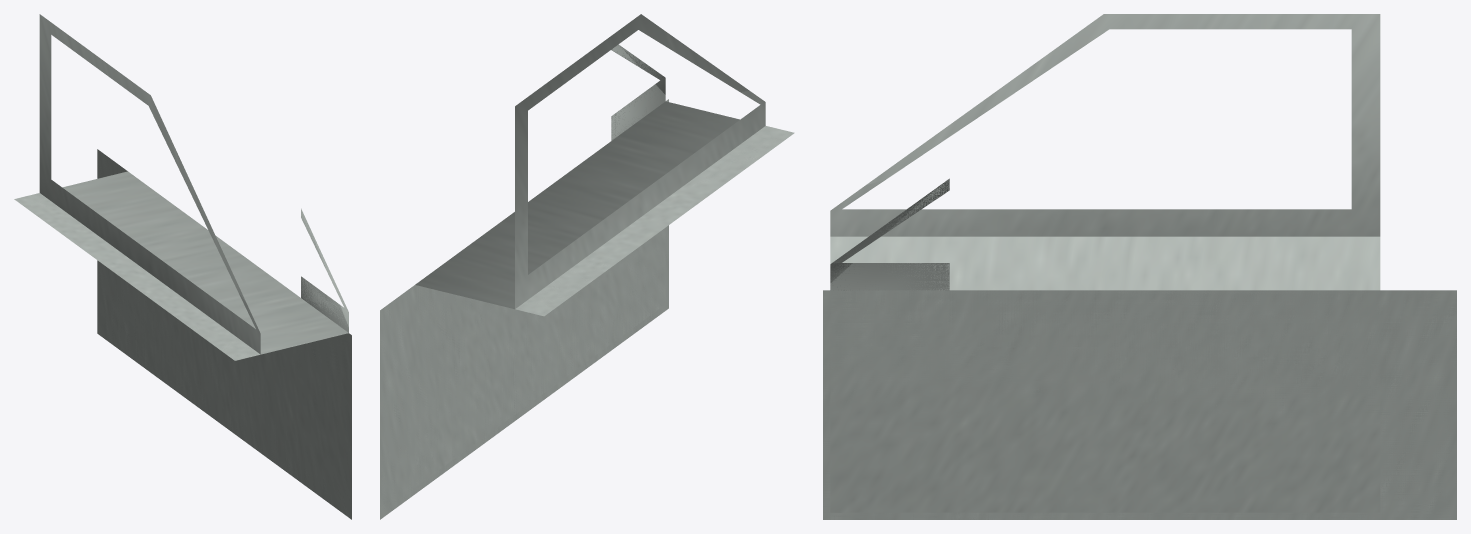
The picture shows the model from 3 angles, left to right: view 1: azimuth 30°, elevation 25°; view 2: azimuth 150°, elevation 25°; view 3: azimuth 270°, elevation 25°; orthographic projection. The views are drawn at different scales.
Size of the model in its own units: 0.31 by 0.945 by 1.2.
1 material, 1 textured.
